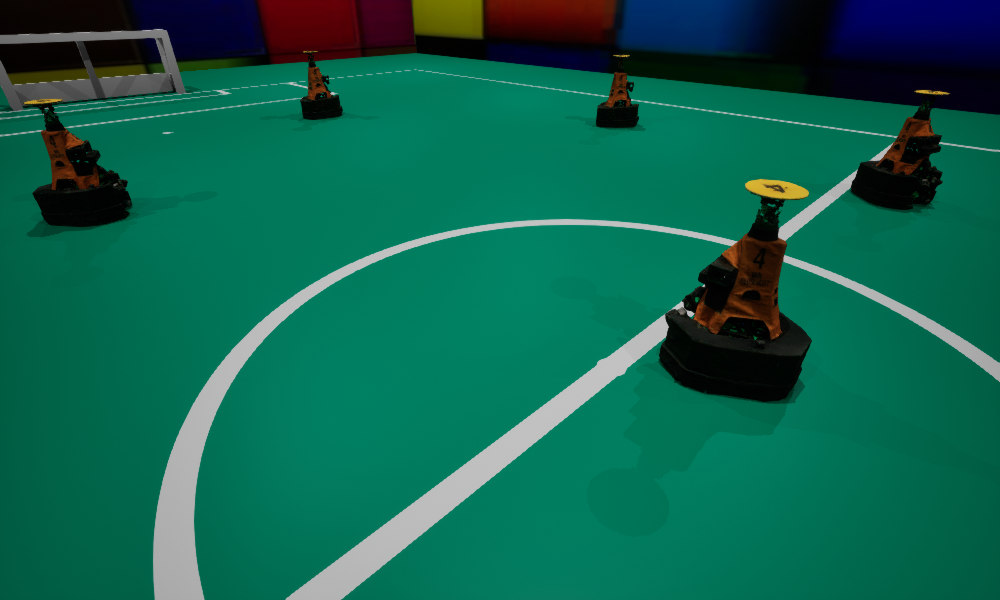0 orange robot TechUnited: (659, 179, 811, 401), (23, 99, 131, 226), (851, 90, 949, 209), (596, 55, 638, 127), (300, 51, 342, 119)
